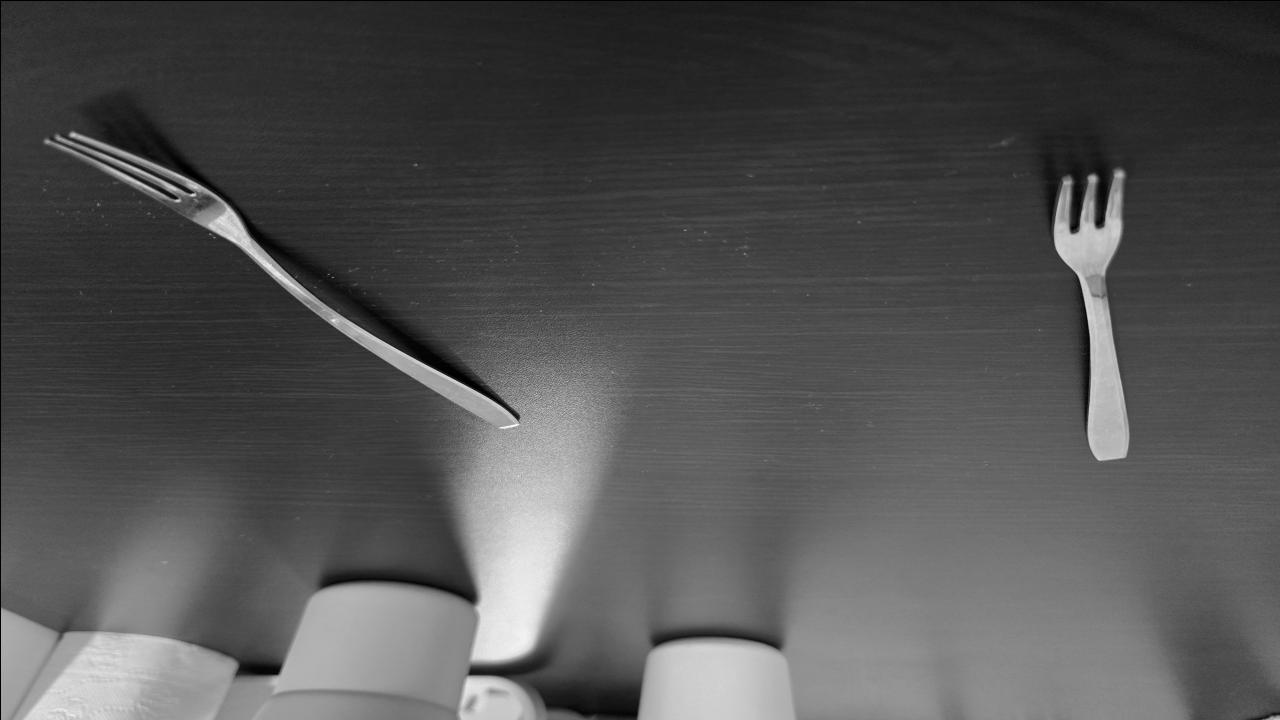fork: (35, 130, 522, 428), (1046, 159, 1138, 463)
